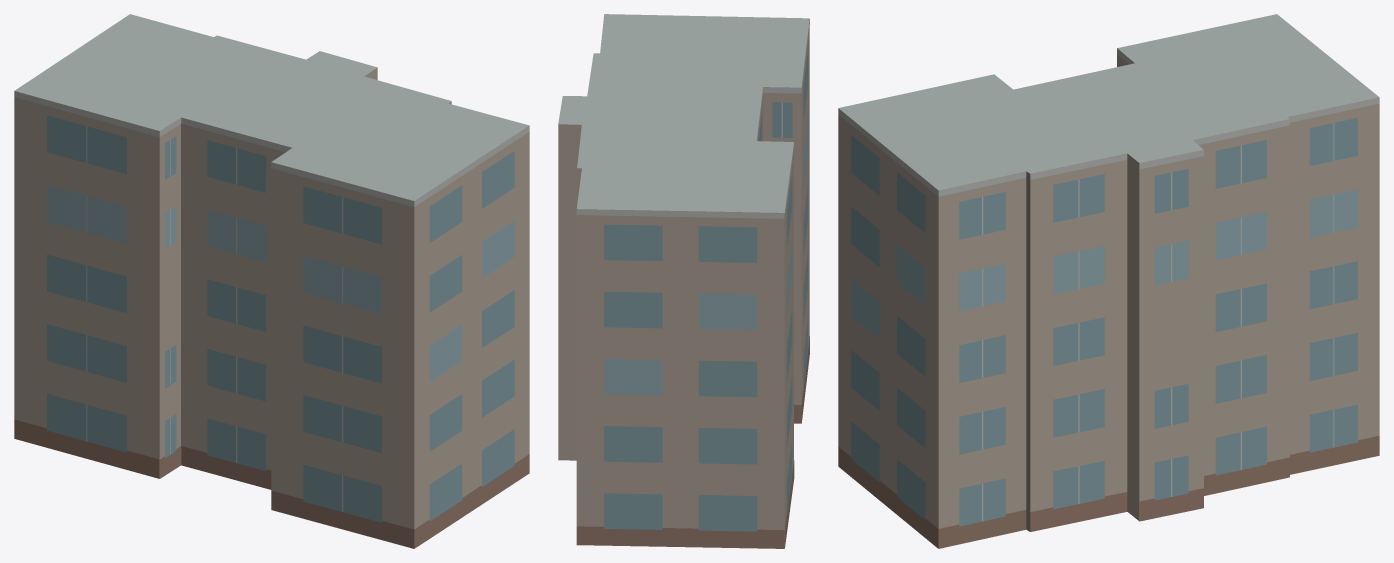
File: survey-upis-32708342.glb
The picture shows the model from 3 angles, left to right: view 1: azimuth 30°, elevation 25°; view 2: azimuth 150°, elevation 25°; view 3: azimuth 270°, elevation 25°; orthographic projection. The views are drawn at different scales.
Parts seen in each view (by area): view 1: survey-upis-32708342.tmp; view 2: survey-upis-32708342.tmp; view 3: survey-upis-32708342.tmp.
Part boxes in pixels (box(x1,y1,x2,y2)): survey-upis-32708342.tmp: box(14, 14, 529, 548); survey-upis-32708342.tmp: box(558, 14, 809, 548); survey-upis-32708342.tmp: box(838, 14, 1379, 548).
Size of the model in its own units: 14.71 by 13.91 by 19.05.
